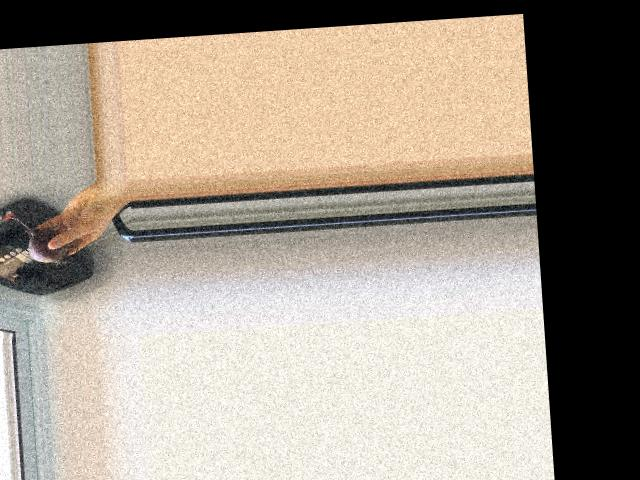beet: (11, 212, 78, 268)
